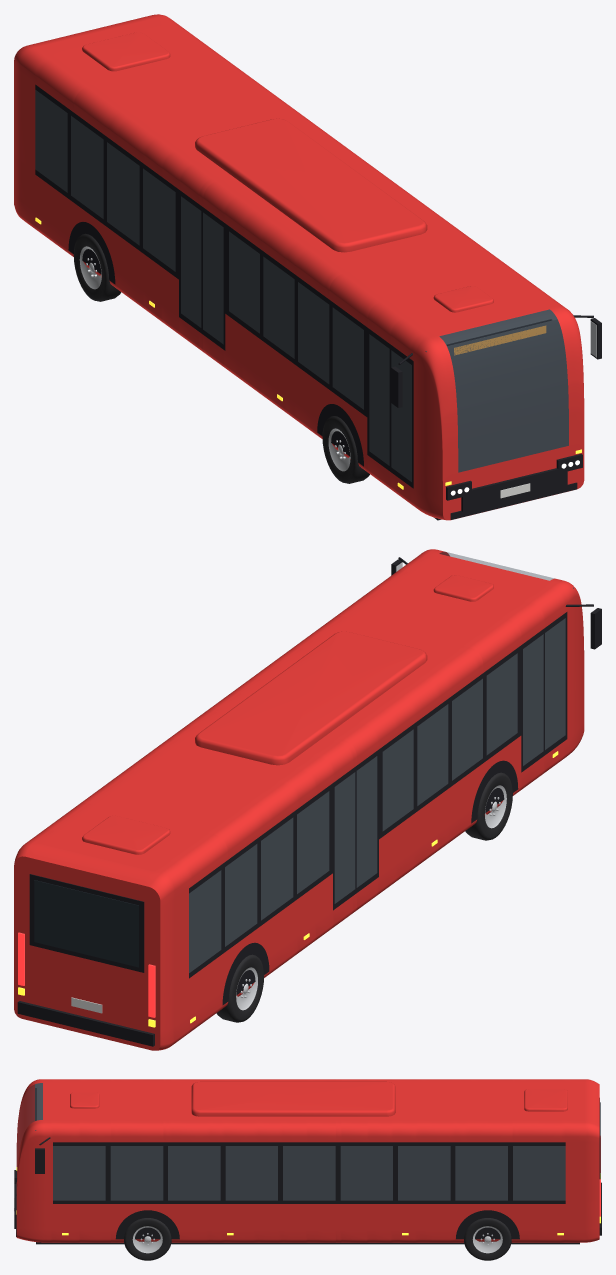
File: red_city_bus.glb
3 views of the same model, one above another, from view 1: azimuth 30°, elevation 25°; view 2: azimuth 150°, elevation 25°; view 3: azimuth 270°, elevation 25° (orthographic). The views are drawn at different scales.
Visible parts, largest first — view 1: Exterior, Interior, Wheel_FR, Wheel_RR; view 2: Exterior, Interior, Wheel_FR, Wheel_RR; view 3: Exterior, Interior, Wheel_FL, Wheel_RL.
Part boxes in pixels (left/top/right/bottom): Exterior: left=14, top=14, right=601, bottom=520; Interior: left=35, top=90, right=573, bottom=481; Wheel_FR: left=322, top=416, right=369, bottom=483; Wheel_RR: left=73, top=233, right=121, bottom=301; Exterior: left=14, top=549, right=601, bottom=1050; Interior: left=189, top=587, right=573, bottom=972; Wheel_FR: left=465, top=772, right=512, bottom=840; Wheel_RR: left=216, top=954, right=264, bottom=1022; Exterior: left=14, top=1079, right=601, bottom=1244; Interior: left=35, top=1083, right=565, bottom=1200; Wheel_FL: left=124, top=1218, right=171, bottom=1260; Wheel_RL: left=464, top=1218, right=511, bottom=1260.
Bounding box in the file's own units: 3.31 × 3.17 × 12.11.
